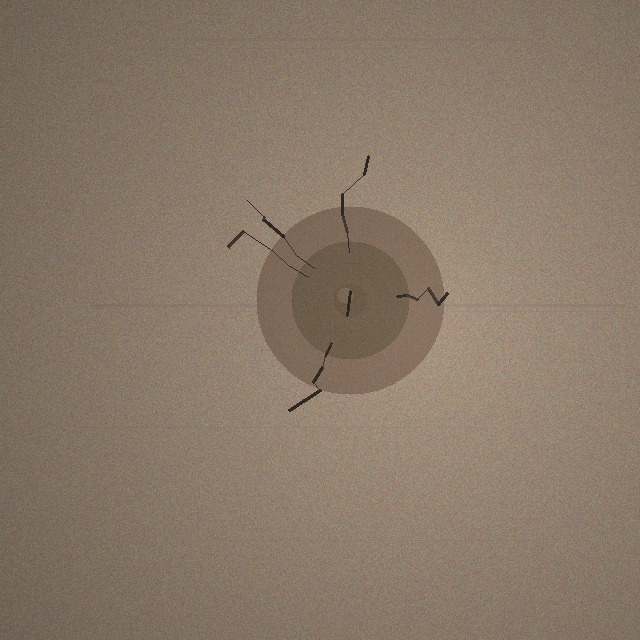crack: (256, 206, 444, 394)
